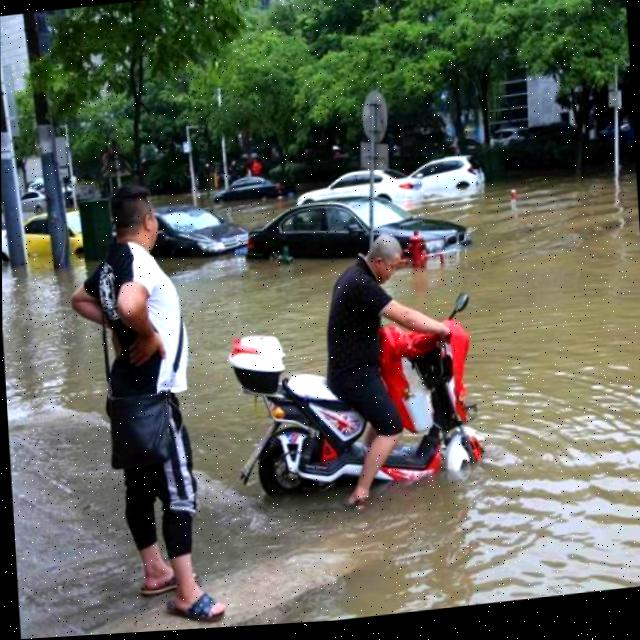civilian: (57, 152, 237, 637), (321, 221, 465, 534)
